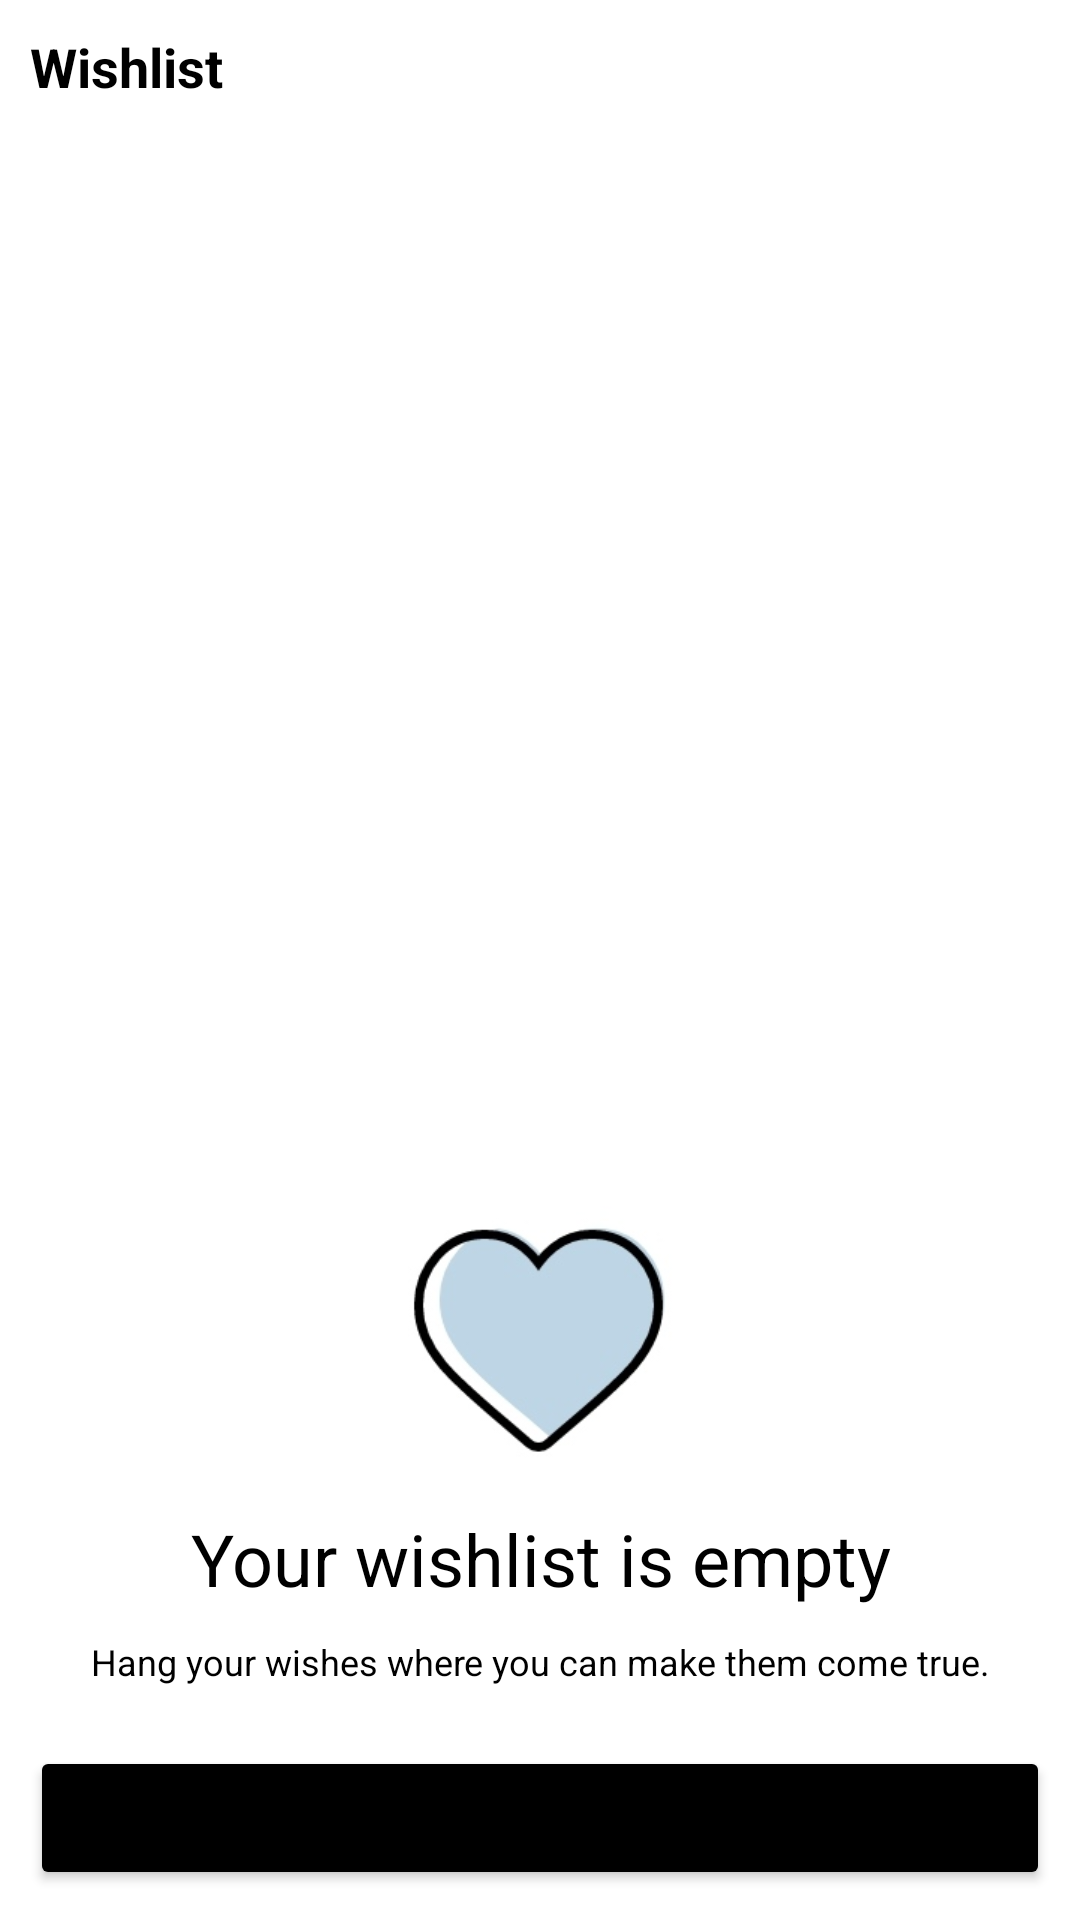

Icon bounding boxes for this 1080 × 1920 phone screenshot, format (x1, y1, x2, y2):
heart: (414, 1228, 665, 1452)
